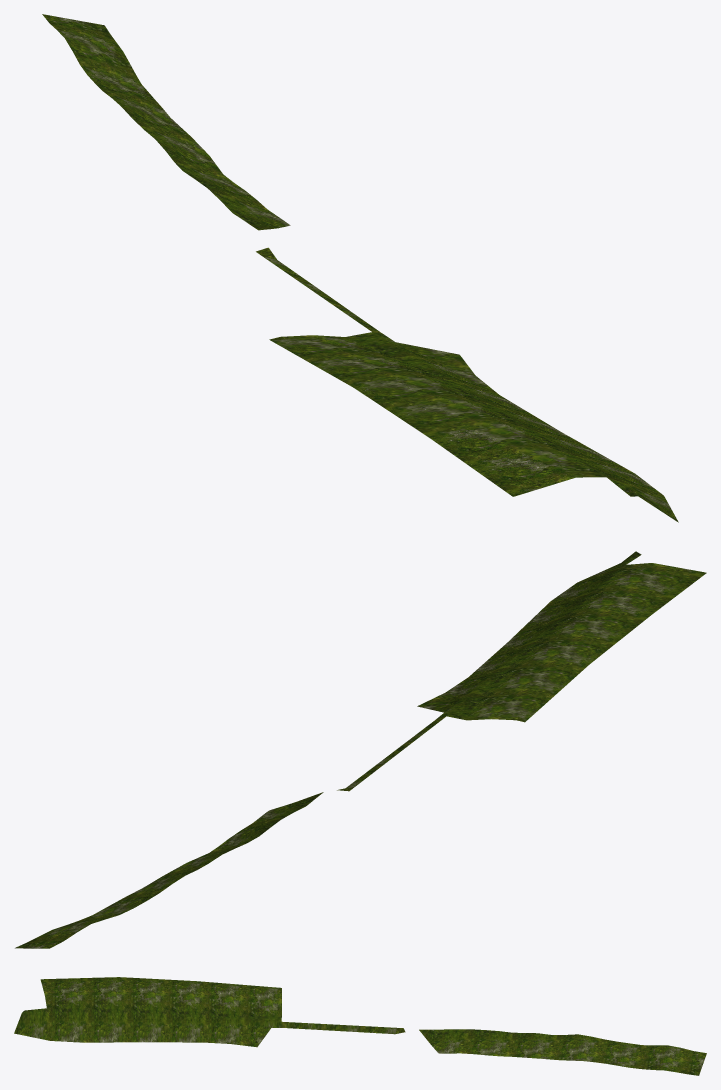
File: STA20_53.FBX
3 renders of one model, top to bottom at view 1: azimuth 30°, elevation 25°; view 2: azimuth 150°, elevation 25°; view 3: azimuth 270°, elevation 25°, orthographic. The views are drawn at different scales.
Parts seen in each view (by area): view 1: STA20_53; view 2: STA20_53; view 3: STA20_53.
Part boxes in pixels (x1,y1,x2,y2): STA20_53: [42, 14, 678, 522]; STA20_53: [15, 551, 706, 948]; STA20_53: [14, 977, 706, 1075].
Size of the model in its own units: 17.61 by 4.86 by 83.07.
